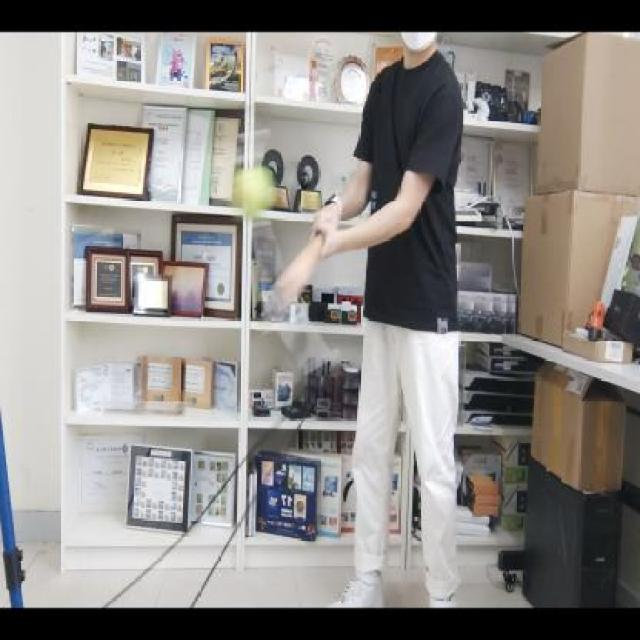baseball: (230, 162, 279, 220)
